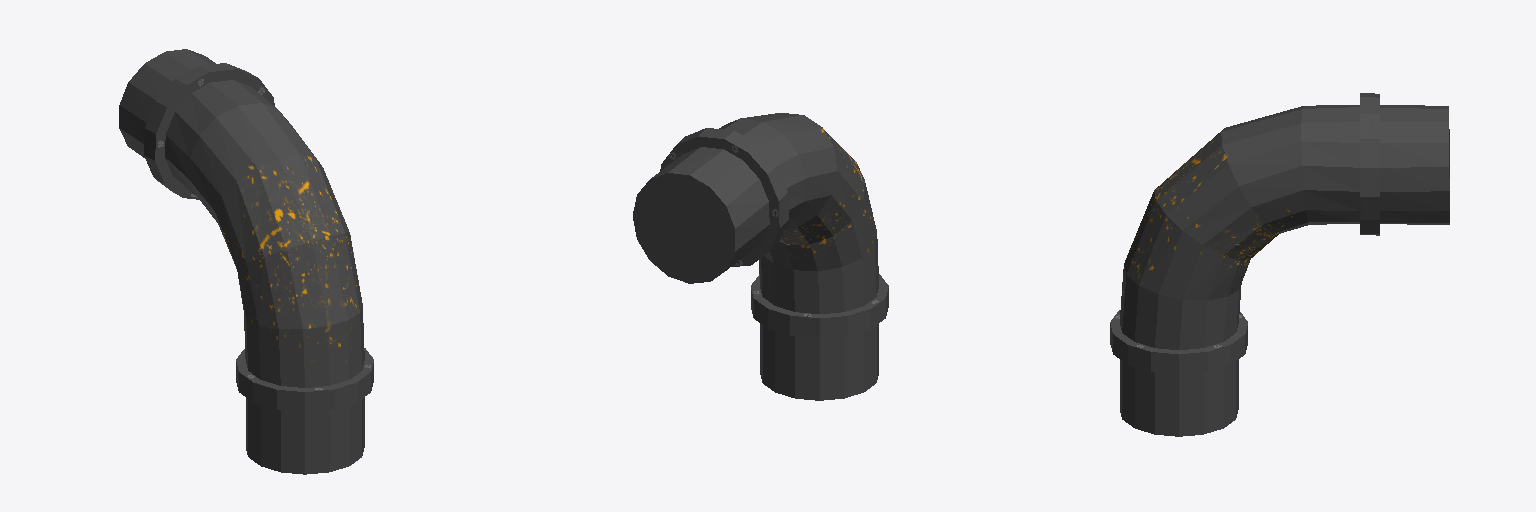
The picture shows the model from 3 angles: view 1: azimuth 30°, elevation 25°; view 2: azimuth 150°, elevation 25°; view 3: azimuth 270°, elevation 25°; orthographic projection.
Size of the model in its own units: 5.72 by 13.79 by 13.6.
Materials: 1 (1 with a texture image).